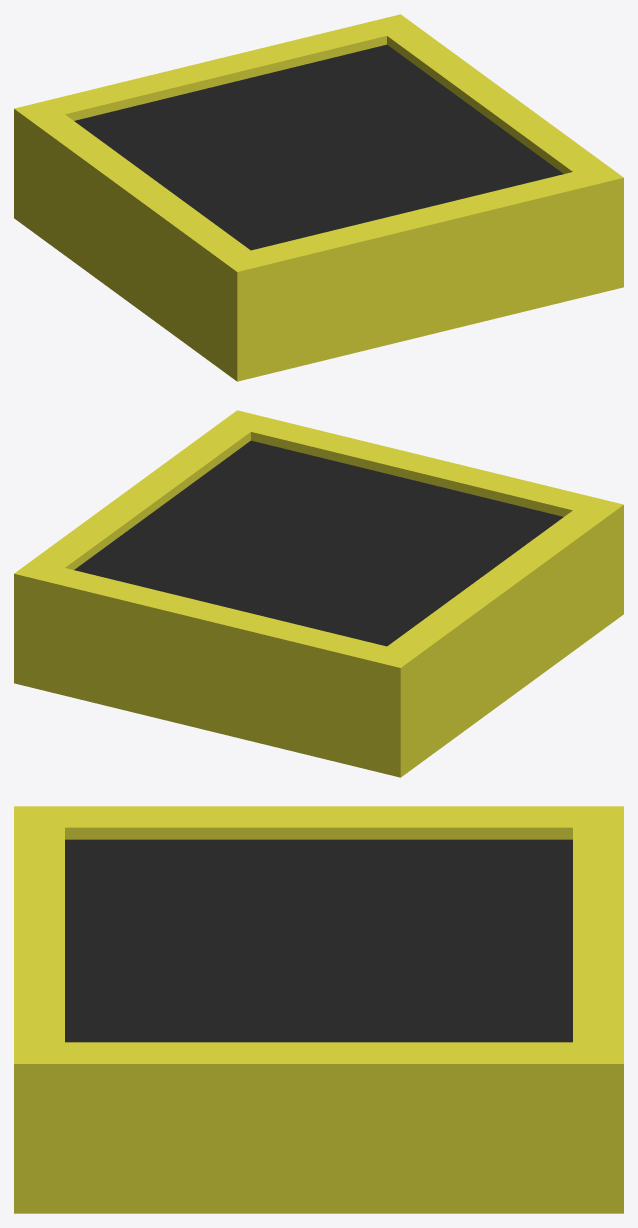
Rendered from End_Socle.fbx.
3 views of the same model, one above another, from view 1: azimuth 30°, elevation 25°; view 2: azimuth 150°, elevation 25°; view 3: azimuth 270°, elevation 25° (orthographic). The views are drawn at different scales.
Visible parts, largest first — view 1: End_Socle; view 2: End_Socle; view 3: End_Socle.
Part boxes in pixels (<box>): End_Socle: <box>14,14,623,381</box>; End_Socle: <box>14,410,623,777</box>; End_Socle: <box>14,806,623,1213</box>.
Size of the model in its own units: 100 by 27.1 by 100.
